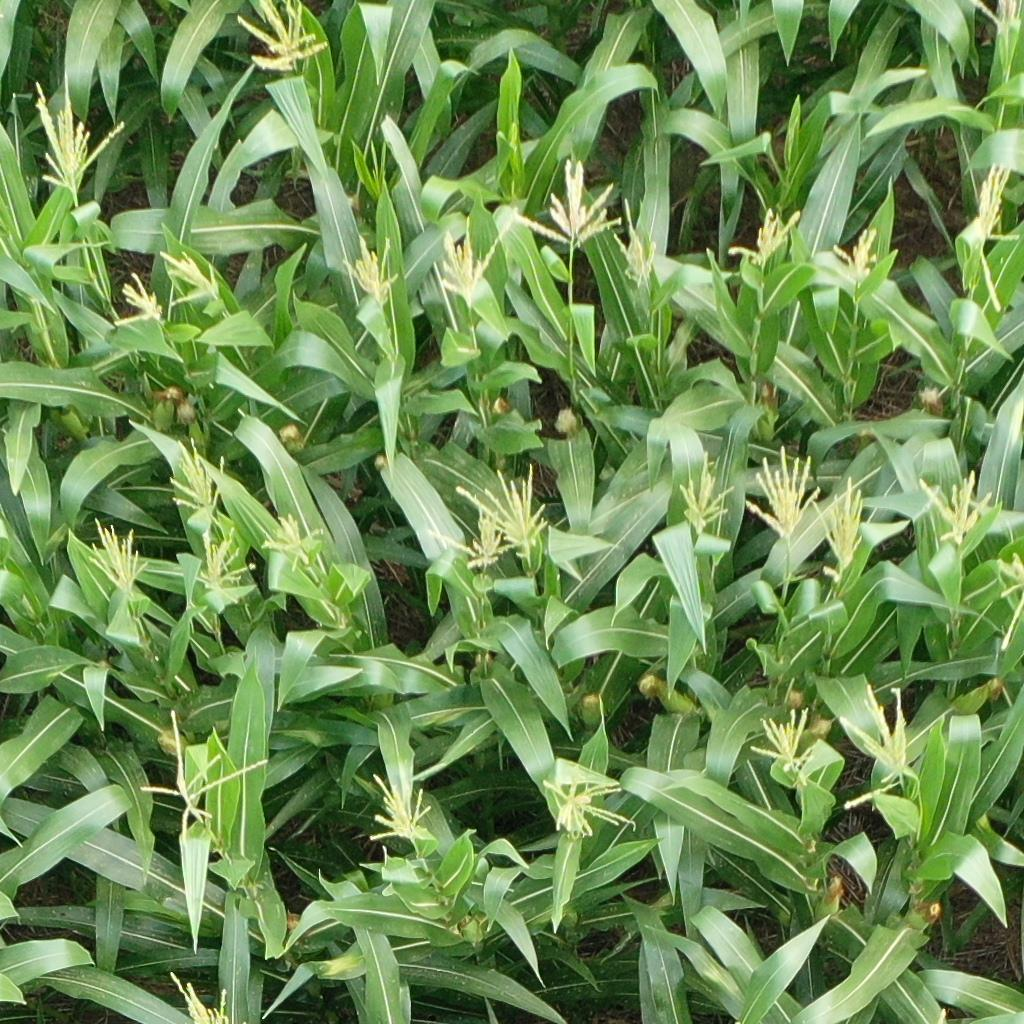Tassel: (136, 707, 268, 851), (28, 75, 128, 191), (832, 685, 916, 814), (508, 158, 624, 250), (453, 465, 549, 560), (436, 204, 521, 302), (538, 756, 637, 839), (967, 158, 1019, 315), (743, 445, 822, 536), (235, 1, 325, 72), (811, 476, 869, 582), (746, 705, 819, 787), (912, 471, 995, 543), (165, 438, 228, 530), (426, 507, 520, 567), (85, 517, 150, 598), (673, 450, 735, 533), (369, 770, 434, 842), (196, 527, 252, 609), (727, 207, 803, 267), (613, 199, 660, 289), (259, 511, 325, 575), (342, 235, 400, 305), (156, 250, 223, 307), (167, 970, 230, 1024), (992, 547, 1024, 652), (832, 226, 881, 287), (114, 273, 163, 330), (972, 1, 1023, 40), (366, 139, 391, 189)
